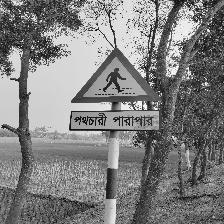Pedestrian-crossing: (69, 48, 161, 132)
